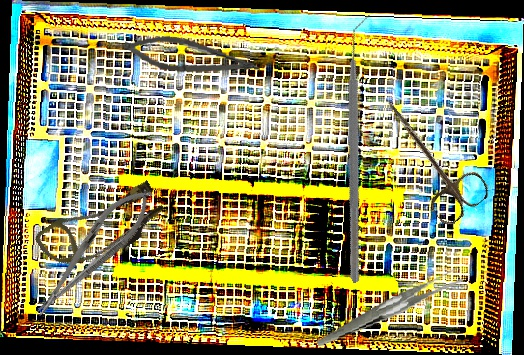Cannula: (32, 167, 172, 287)
Chopper: (237, 14, 487, 284)
Dressing Forceps: (309, 266, 470, 347)
Iris Scissors: (363, 86, 494, 229)
Micro Scissor: (122, 30, 263, 82)
Needle Holder: (22, 176, 164, 328)
